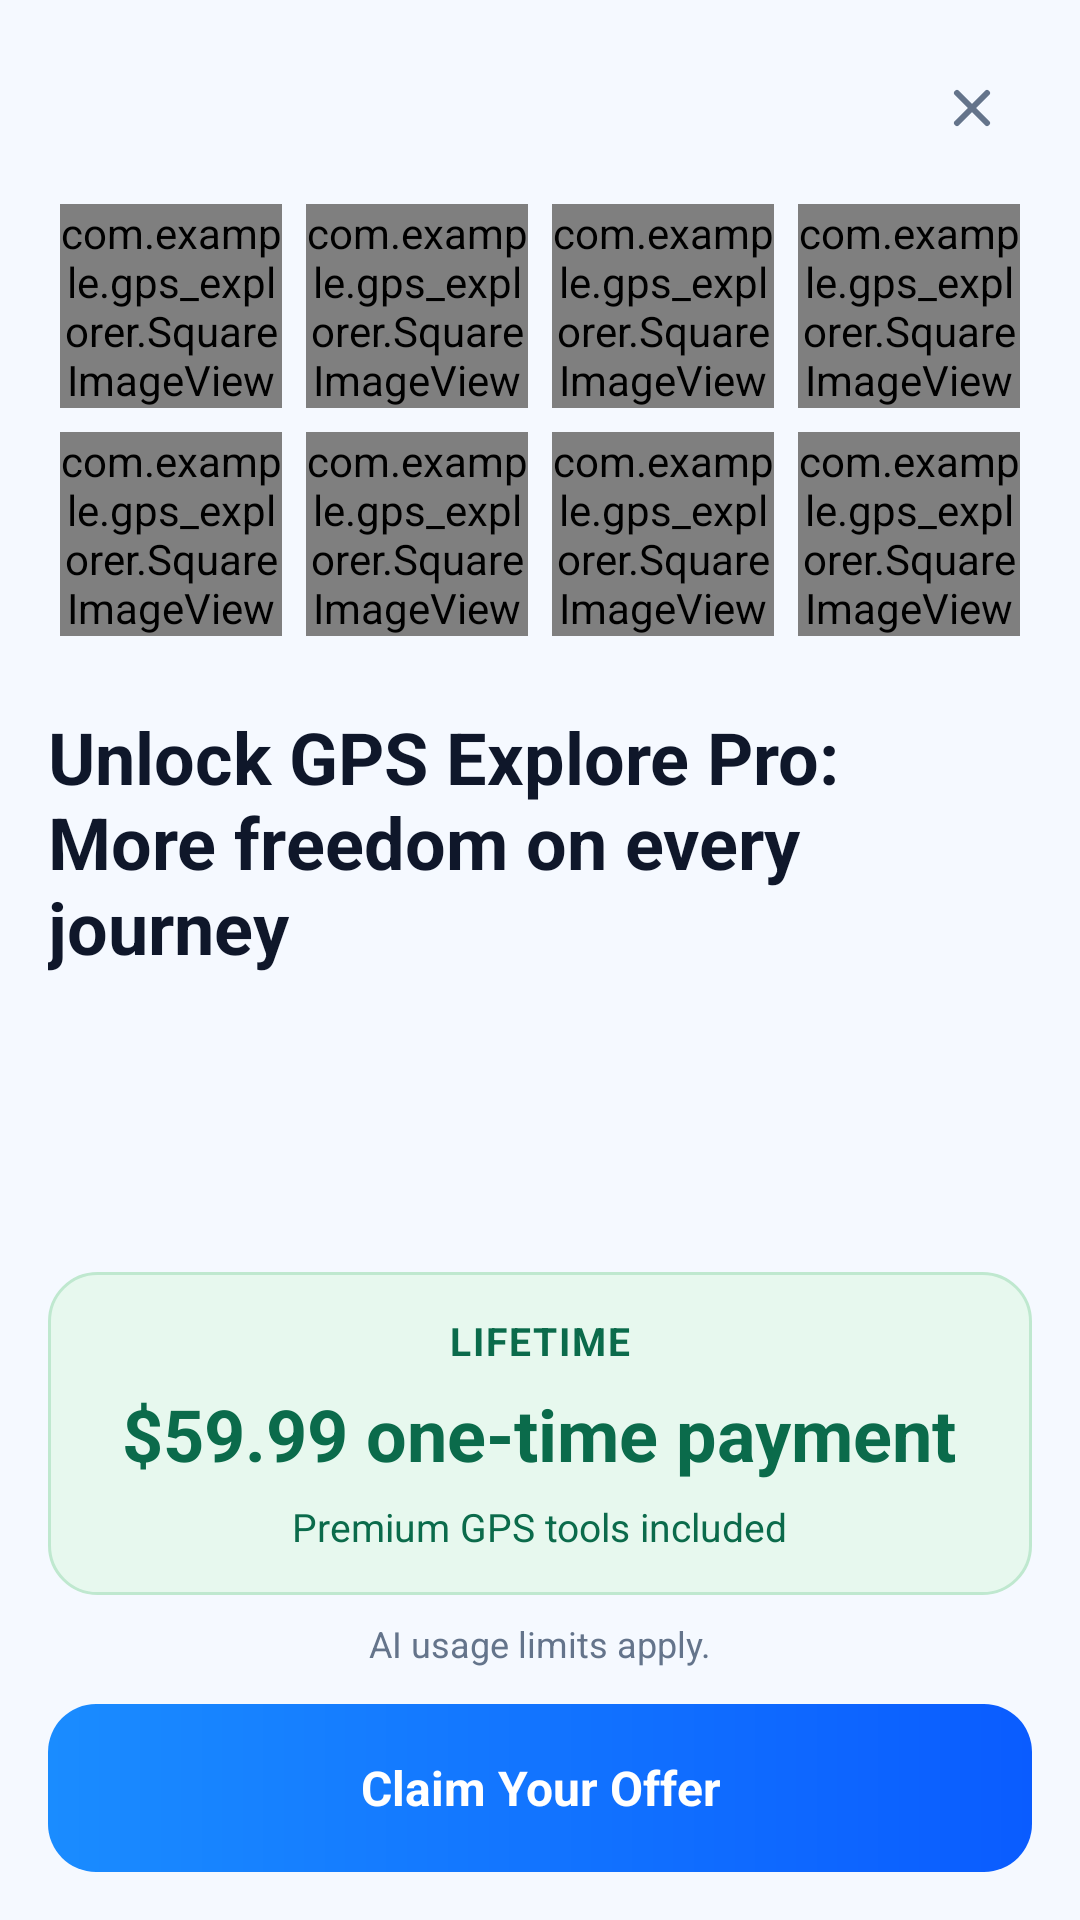

Icons on this 1080px×1920px Android screen, each with its box as detection(x1, y1, x2, y2):
Close: detection(954, 90, 990, 126)
